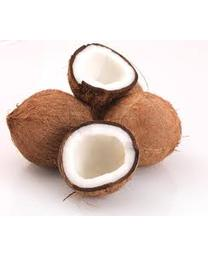coconut: (7, 88, 94, 170), (58, 119, 140, 199), (99, 91, 183, 168), (68, 43, 139, 108)
